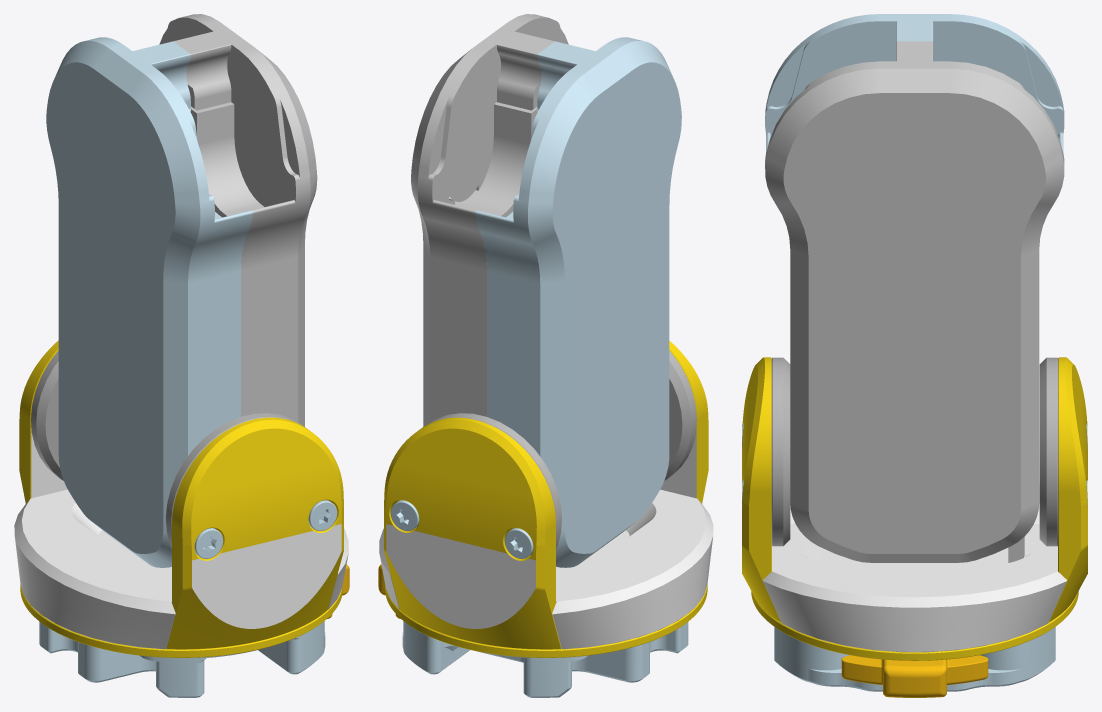
The picture shows the model from 3 angles, left to right: view 1: azimuth 30°, elevation 25°; view 2: azimuth 150°, elevation 25°; view 3: azimuth 270°, elevation 25°; orthographic projection.
Parts seen in each view (by area): view 1: HousingBottom, HousingTop, Mount, Base.001, Plug, Base, Mount.003, Mount.001, Mount.002, MountScrew.001, MountScrew.003; view 2: HousingBottom, HousingTop, Mount.003, Base.001, Plug, Base, Mount, Mount.002, Mount.001, MountScrew.002, MountScrew; view 3: HousingTop, Base.001, HousingBottom, Mount, Mount.003, Plug, Button, Mount.002, Mount.001, Base.
Boxes of the visible parts, <box> form: HousingBottom: <box>46,37,252,567</box>; HousingTop: <box>159,14,317,426</box>; Mount: <box>166,417,343,649</box>; Base.001: <box>14,489,348,649</box>; Plug: <box>39,621,325,697</box>; Base: <box>20,585,342,657</box>; Mount.003: <box>19,340,67,503</box>; Mount.001: <box>31,350,63,480</box>; Mount.002: <box>166,413,304,548</box>; MountScrew.001: <box>308,500,337,530</box>; MountScrew.003: <box>194,528,223,558</box>; HousingBottom: <box>475,37,681,567</box>; HousingTop: <box>411,14,568,426</box>; Mount.003: <box>384,417,561,649</box>; Base.001: <box>379,489,713,649</box>; Plug: <box>402,621,688,697</box>; Base: <box>385,584,707,657</box>; Mount: <box>660,341,708,503</box>; Mount.002: <box>664,351,696,480</box>; Mount.001: <box>424,413,561,548</box>; MountScrew.002: <box>390,500,419,531</box>; MountScrew: <box>504,528,533,558</box>; HousingTop: <box>765,41,1064,562</box>; Base.001: <box>763,484,1066,652</box>; HousingBottom: <box>765,14,1064,150</box>; Mount: <box>742,357,780,622</box>; Mount.003: <box>1049,357,1087,622</box>; Plug: <box>774,627,1055,691</box>; Button: <box>841,655,988,697</box>; Mount.002: <box>771,357,790,546</box>; Mount.001: <box>1039,357,1058,546</box>; Base: <box>751,591,1078,660</box>.
Bounding box in the file's own units: 0.0753 × 0.075 × 0.143.
